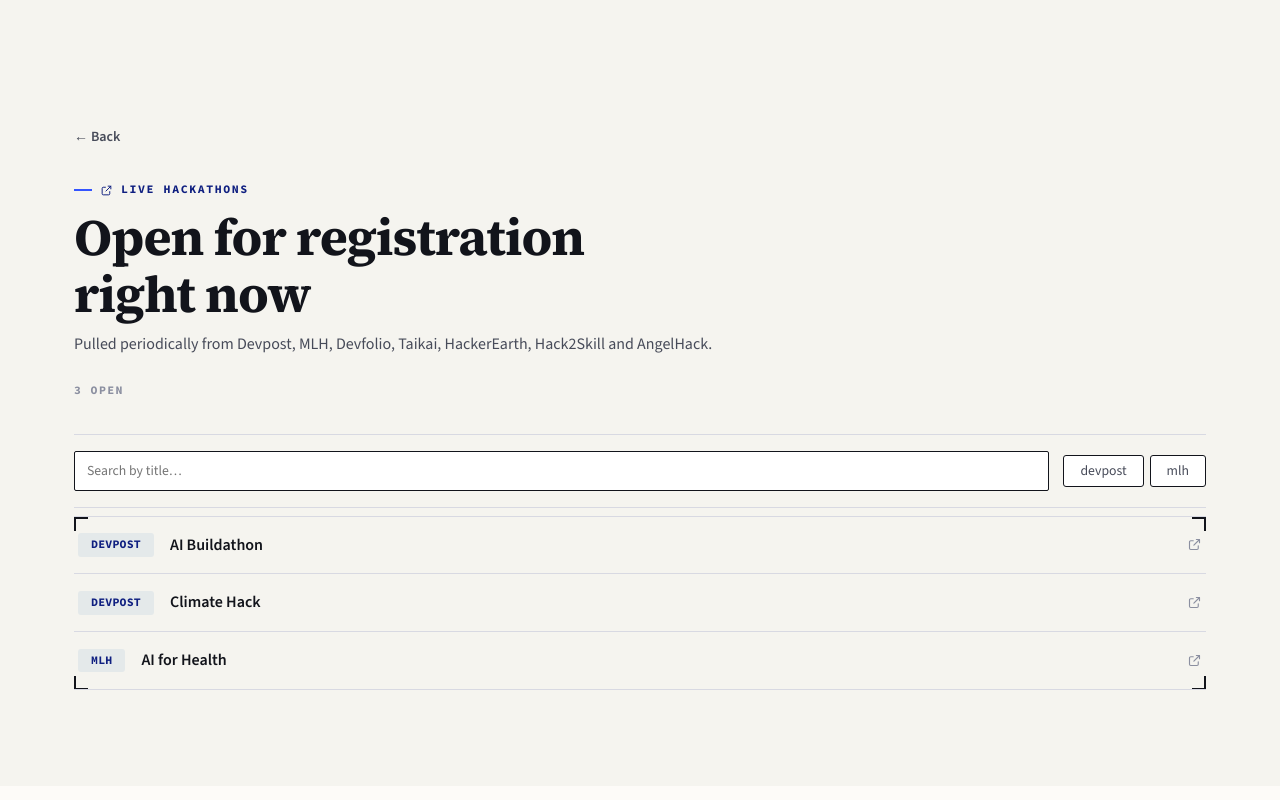
Test: LiveHackathons page — search and platform filter › filters by title as you type, client-side (no extra fetch)
This screenshot has width=1280, height=800.
Expected: the text "AI Buildathon" is shown, [170, 534, 263, 555]
Step 1. Type "climate" into the search field named "search live hackathons" → (562, 471), box [74, 451, 1049, 491]
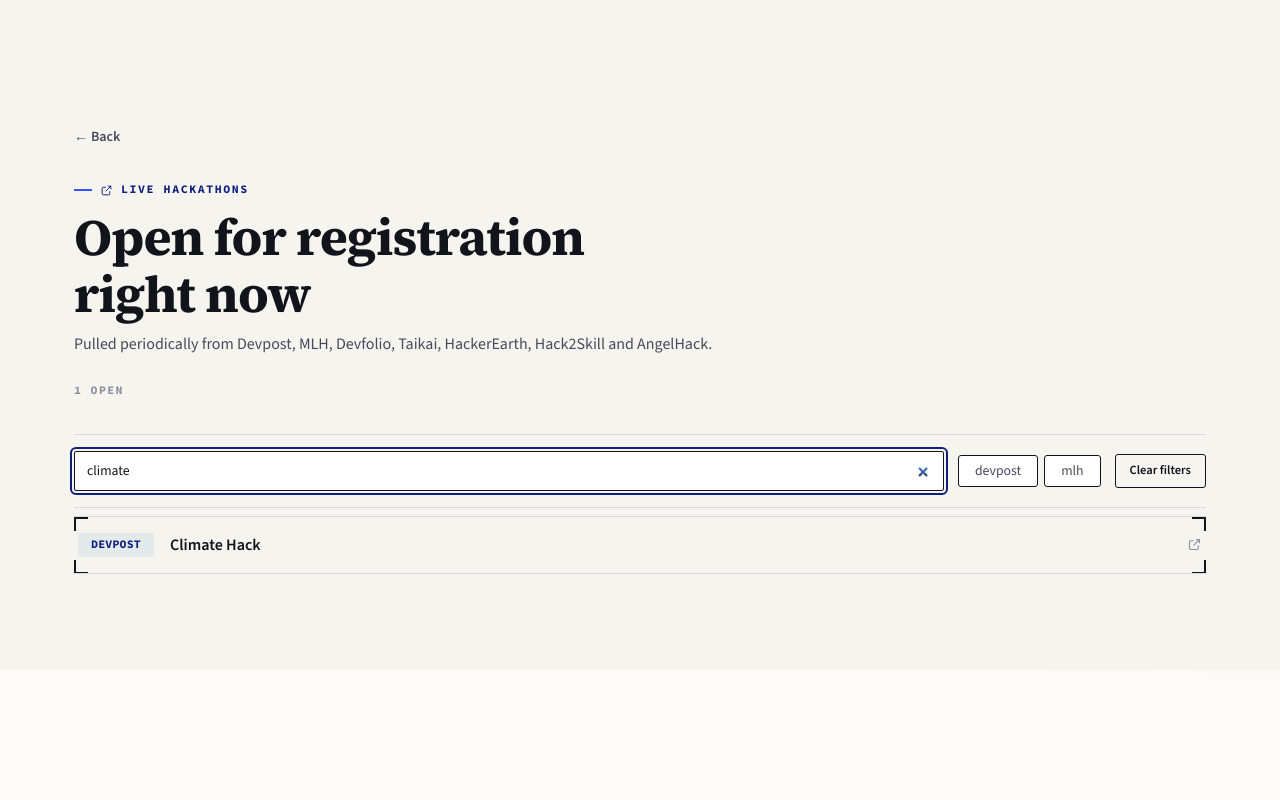
Expected: the text "Climate Hack" is shown, [170, 534, 261, 555]
Expected: the link "AI Buildathon" is gone
Expected: the link "AI for Health" is gone
